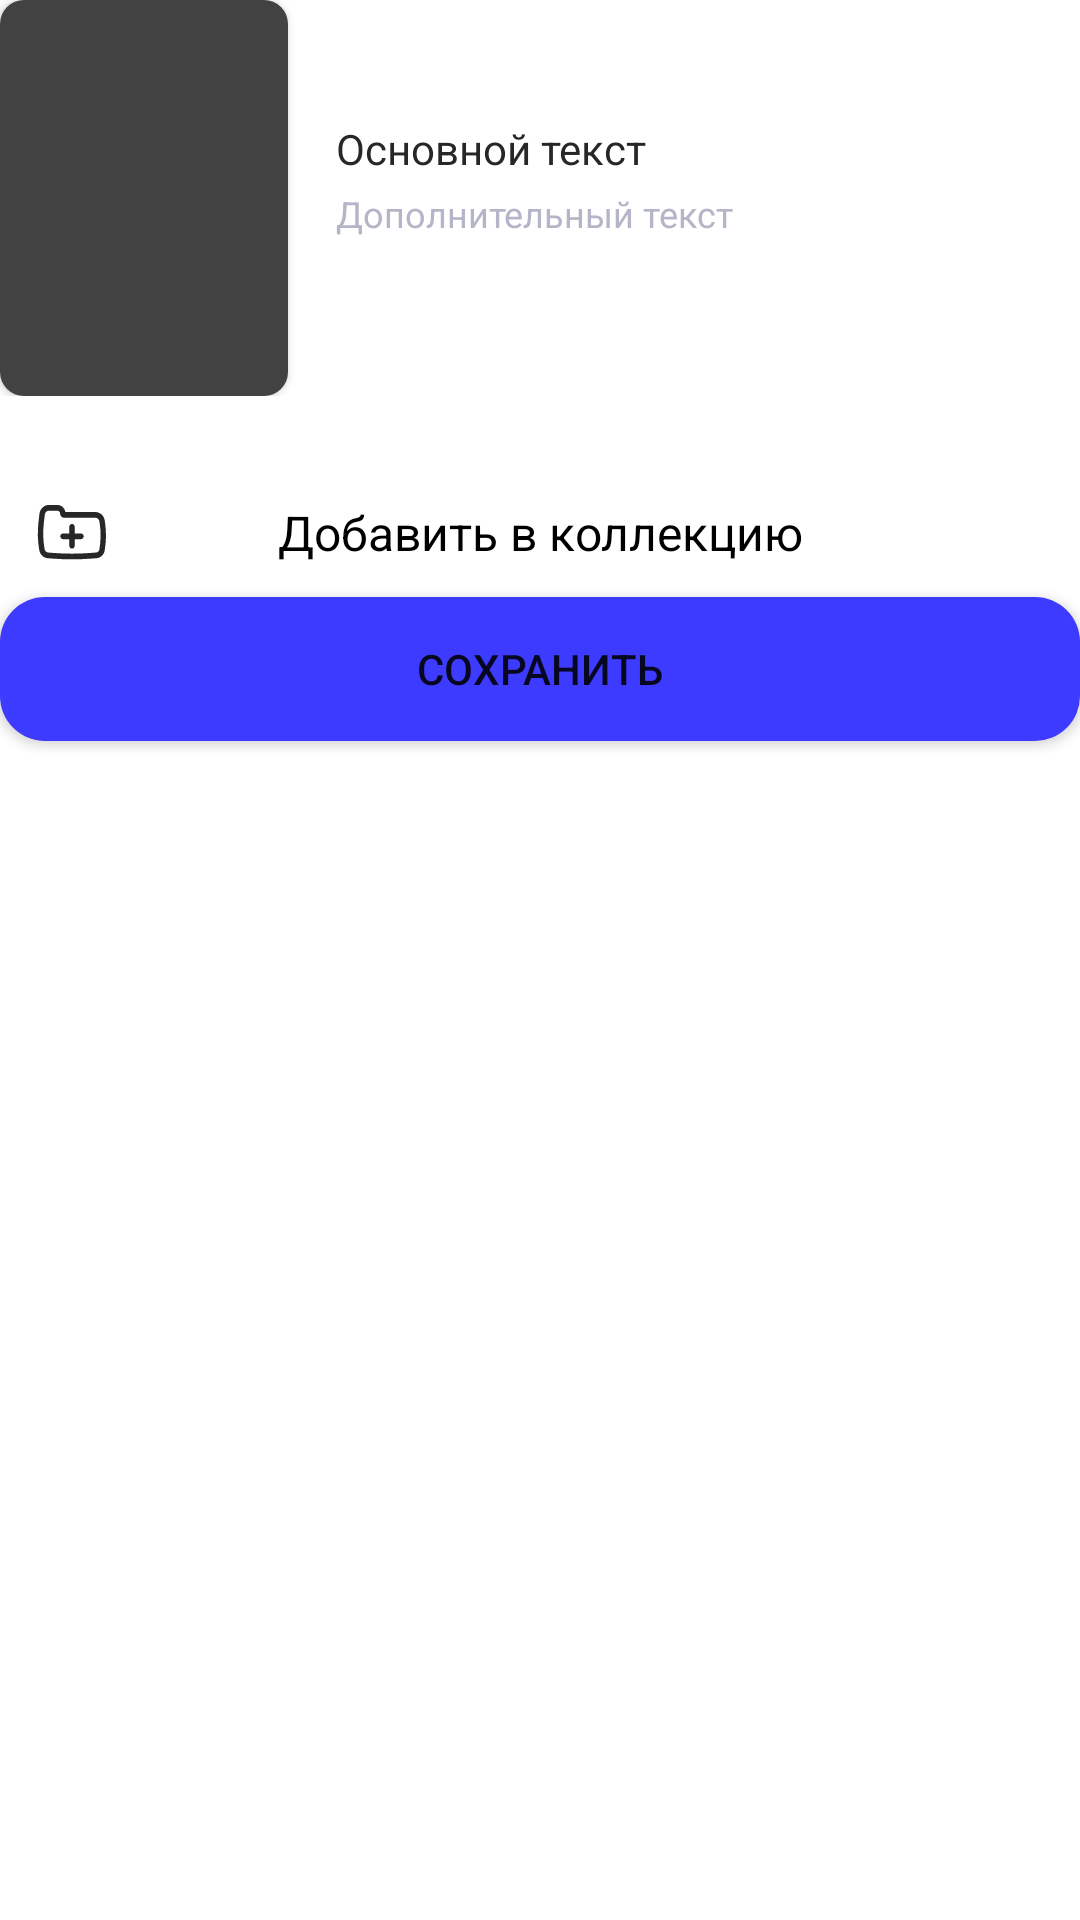

Screen size 1080w x 1920h. Icon name, then its box in pixels as Rect(x1, y1, x2, y2):
add collection: Rect(37, 505, 106, 560)
